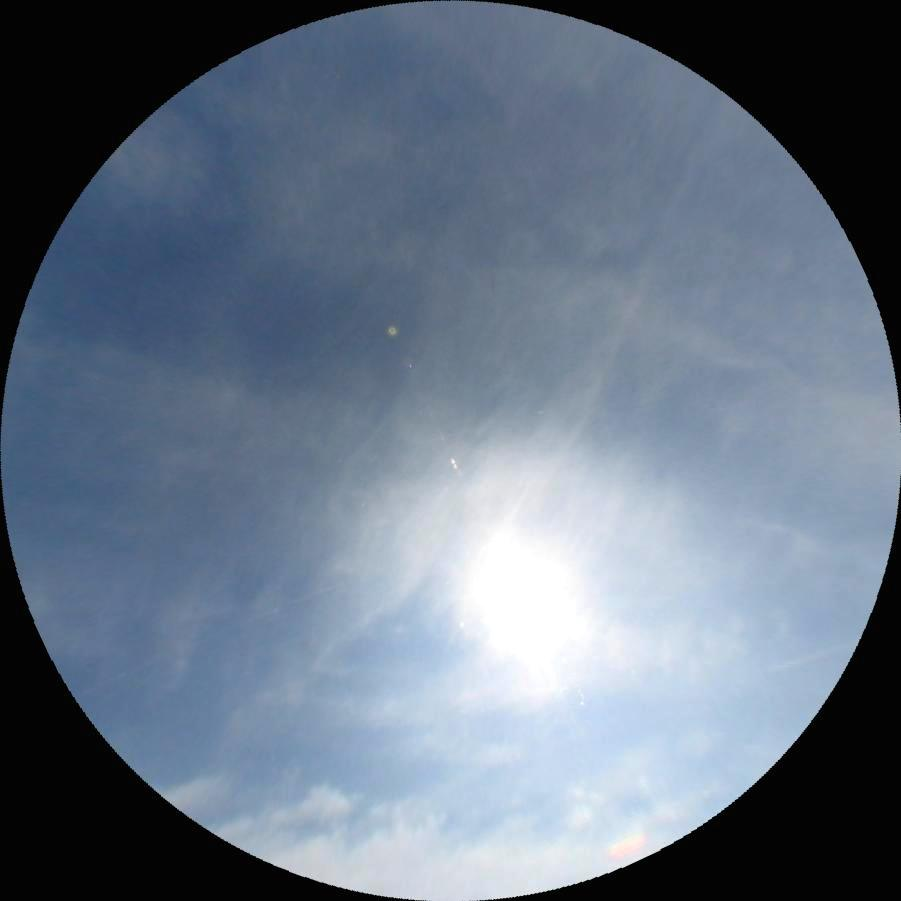contrail veryold: (489, 93, 761, 528)
sun: (460, 537, 583, 676)
